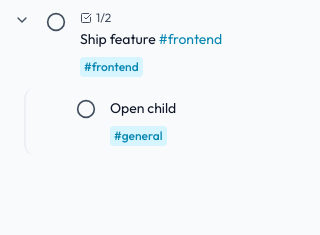
Test: TreeTaskItem status actions › cycles between matching, collapsed, and all-visible child states
The image size is (320, 235).
Expected: the text "Open child" is shown, [110,99,176,117]
Expected: the text "Done child" is not shown
Click the button with test id "tree-fold-toggle-t1" at (22, 20), box [12,10,32,30]
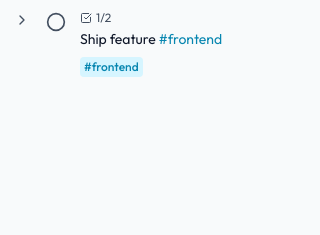
Now the button "Open child" is gone
Click the button with test id "tree-fold-toggle-t1" at (22, 20), box [12,10,32,30]
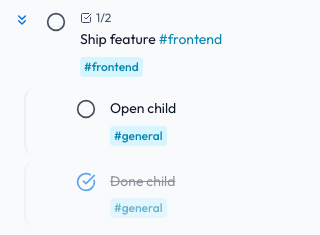
Now the text "Done child" is shown, box [110,172,175,190]
Click the button with test id "tree-fold-toggle-t1" at (22, 20), box [12,10,32,30]
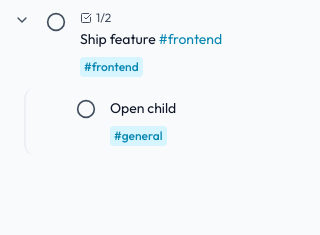
Now the button "Done child" is gone
